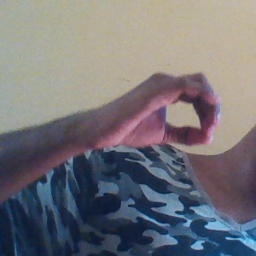O: (108, 65, 224, 152)
